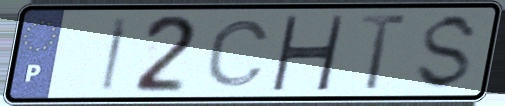2: (131, 12, 202, 95)
C: (202, 17, 274, 90)
H: (266, 13, 348, 93)
I: (98, 15, 133, 93)
S: (411, 11, 484, 94)
T: (355, 11, 412, 93)
